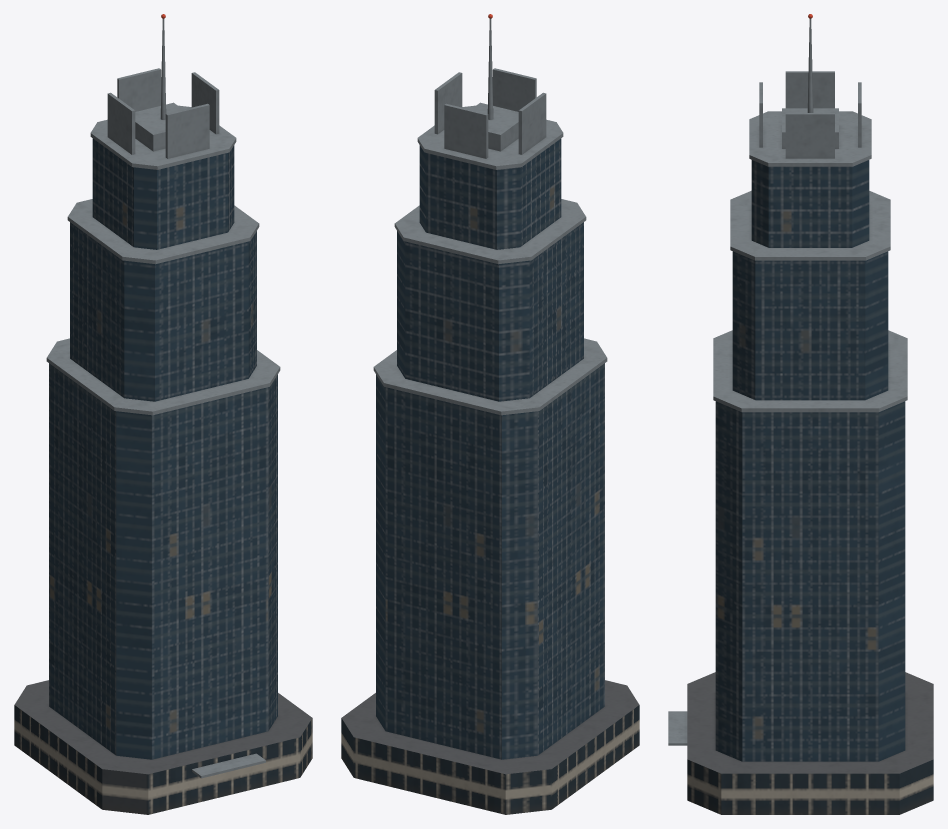
The model's file is city-tower.fbx.
3 renders of one model, left to right at view 1: azimuth 30°, elevation 25°; view 2: azimuth 150°, elevation 25°; view 3: azimuth 270°, elevation 25°, orthographic.
Visible parts, largest first — view 1: city-tower; view 2: city-tower; view 3: city-tower.
Part boxes in pixels (box(x1,y1,x2,y2)): city-tower: box(14, 14, 312, 814); city-tower: box(341, 14, 639, 814); city-tower: box(668, 14, 933, 814).
Bounding box in the file's own units: 3640 × 12202 × 3920.
Materials: 1 (1 with a texture image).
